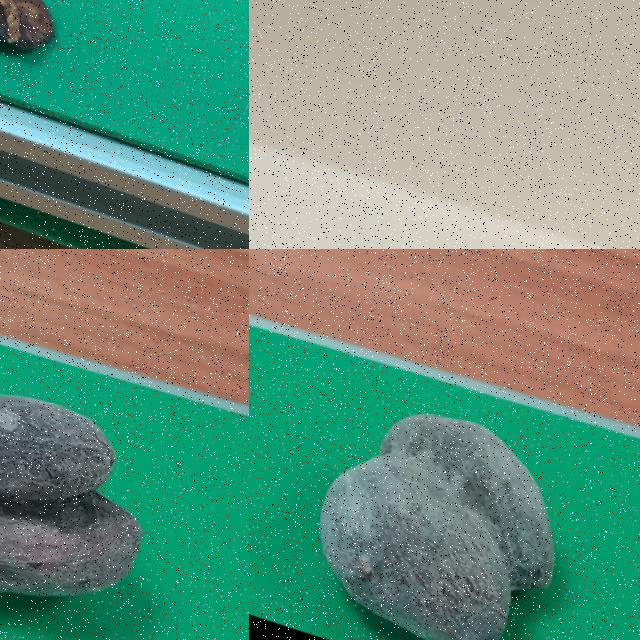Agglomerated_cocoabeans: (249, 325, 639, 639), (0, 290, 235, 639)
Flat_cocoabeans: (249, 163, 639, 248), (0, 0, 133, 109)
